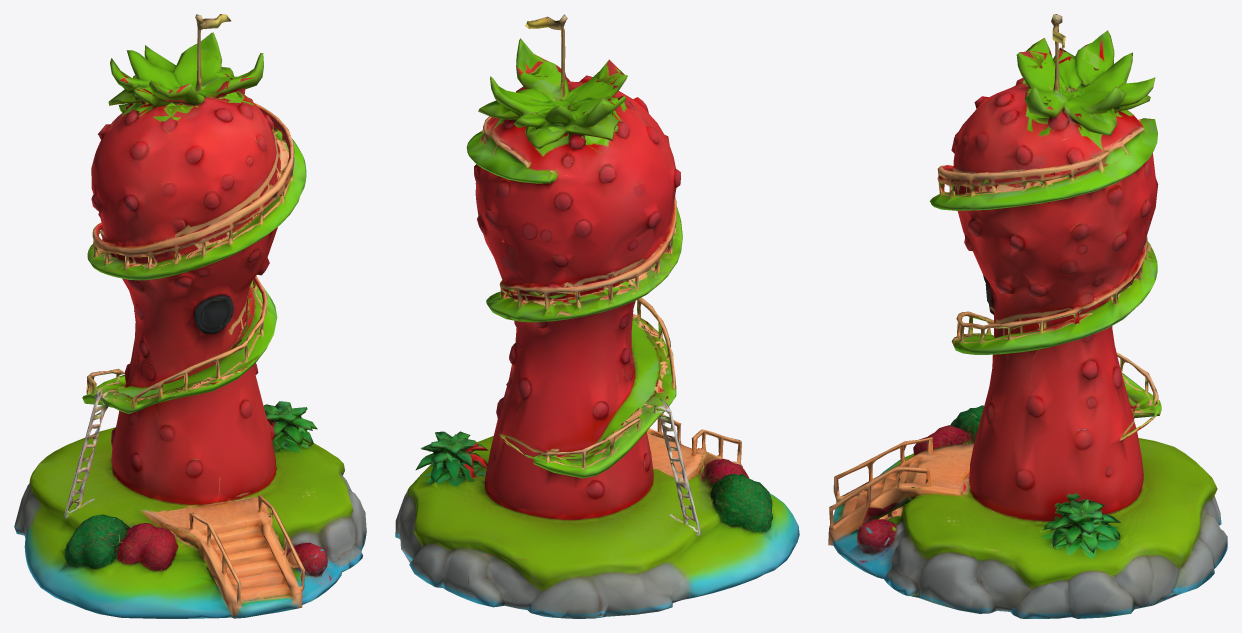
The model's file is Meshy_AI_Strawberry_Tower_0203085355_texture.fbx.
3 views of the same model, side by side, from view 1: azimuth 30°, elevation 25°; view 2: azimuth 150°, elevation 25°; view 3: azimuth 270°, elevation 25° (orthographic). The views are drawn at different scales.
Parts seen in each view (by area): view 1: Mesh1.0; view 2: Mesh1.0; view 3: Mesh1.0.
Boxes of the visible parts, box(x1,y1,x2,y2) form: Mesh1.0: box(14, 14, 366, 618); Mesh1.0: box(395, 14, 799, 618); Mesh1.0: box(828, 14, 1227, 618).
Size of the model in its own units: 132 by 201 by 136.
1 material, 1 textured.
